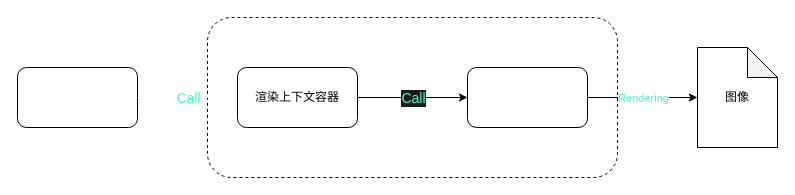
This 795x195 diagram has some shape labels left out. The shapes that lost their labels are listed below. From the top down, each one's centre as x and y in pixels, then its label:
At (x=77, y=97): "渲染模块".
At (x=527, y=97): "渲染上下文对象".
